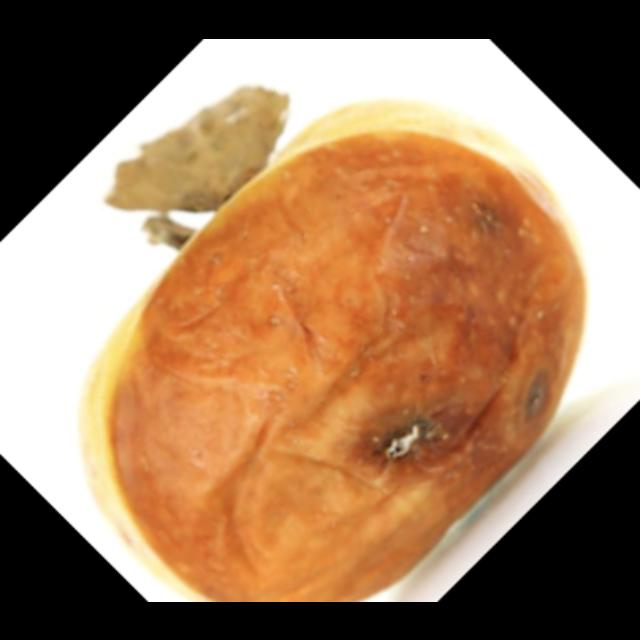Apel Tidak Segar: (95, 90, 587, 602)
